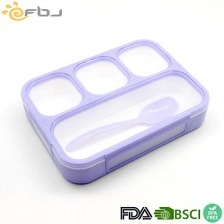plastic_box: (13, 32, 215, 190)
